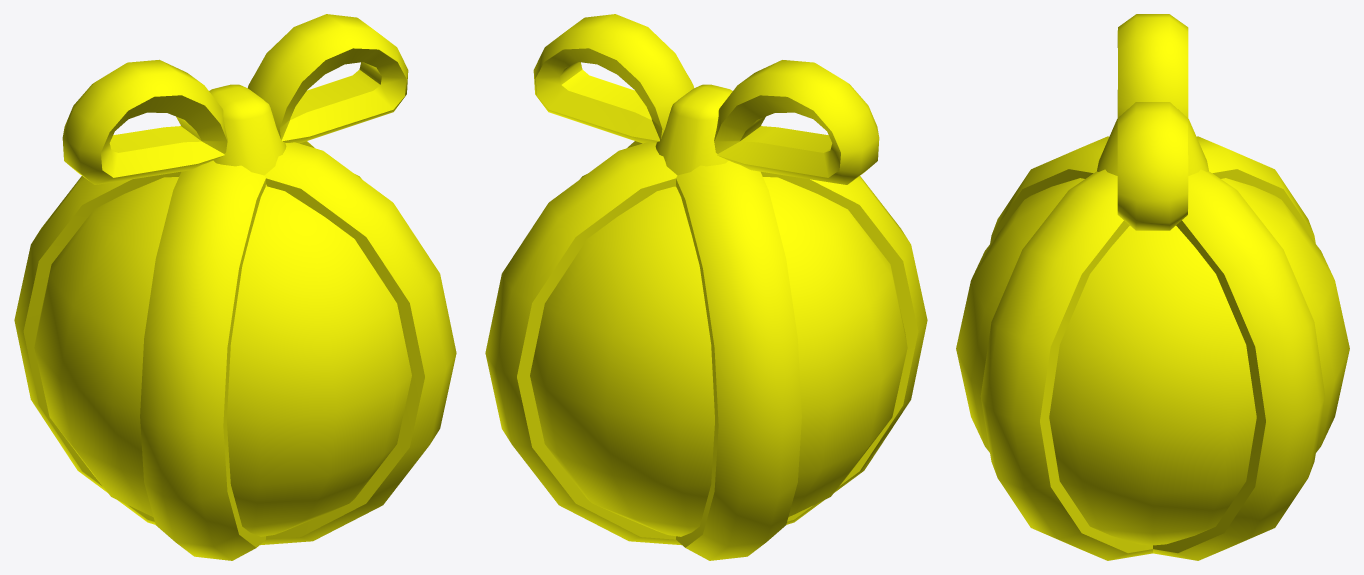
File: kaykit-present-sphere-a-yellow.glb
The picture shows the model from 3 angles, left to right: view 1: azimuth 30°, elevation 25°; view 2: azimuth 150°, elevation 25°; view 3: azimuth 270°, elevation 25°; orthographic projection. The views are drawn at different scales.
Parts seen in each view (by area): view 1: present_sphere_A_yellow; view 2: present_sphere_A_yellow; view 3: present_sphere_A_yellow.
Boxes of the visible parts, x1=… form: present_sphere_A_yellow: x1=14, y1=14, x2=456, y2=560; present_sphere_A_yellow: x1=485, y1=14, x2=927, y2=560; present_sphere_A_yellow: x1=956, y1=14, x2=1349, y2=560.
Size of the model in its own units: 0.5576 by 0.7501 by 0.5576.
